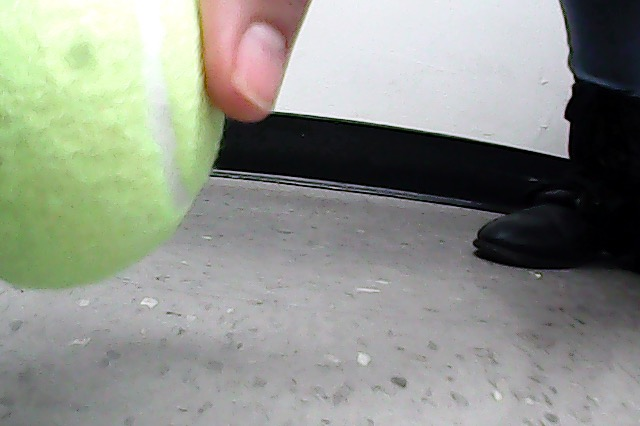ball: (1, 1, 227, 290)
